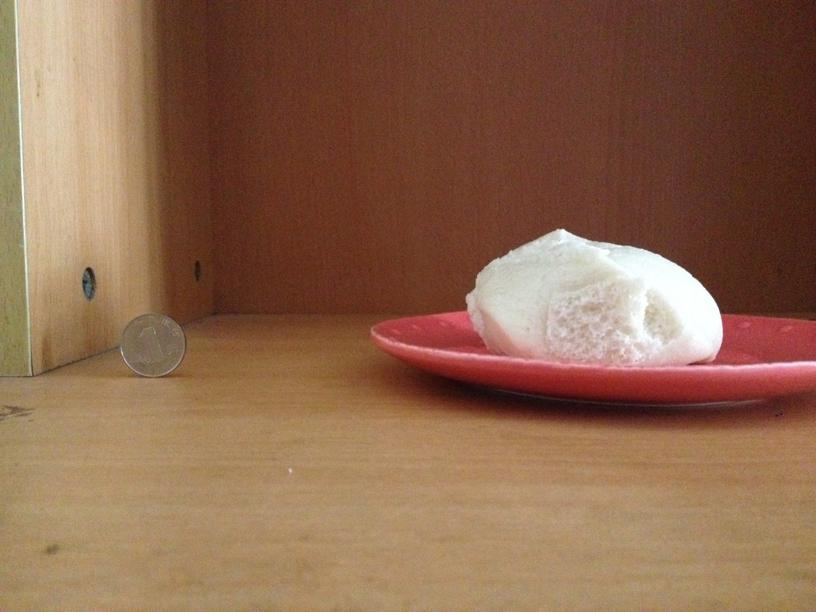bun: (465, 230, 723, 363)
coin: (120, 311, 187, 376)
